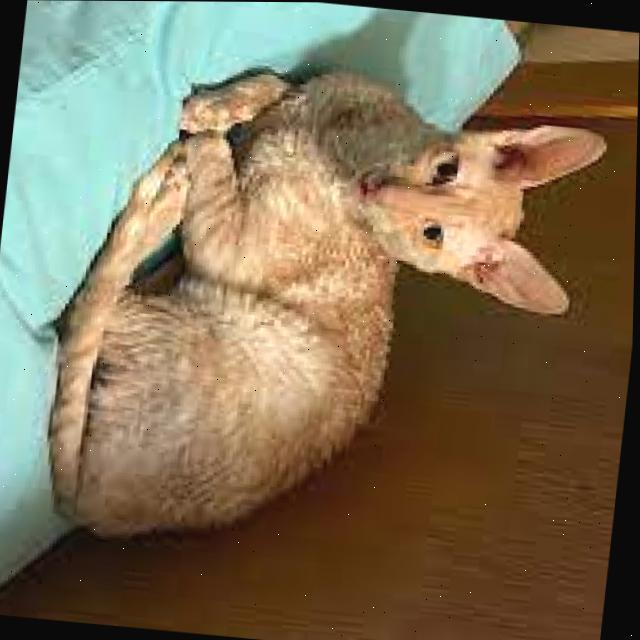Cornish Rex: (30, 43, 619, 587)
